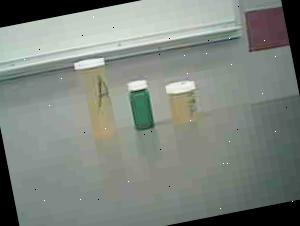Bottle A: (72, 48, 128, 146)
Bottle B: (162, 76, 202, 127)
Bottle C: (123, 73, 161, 133)
